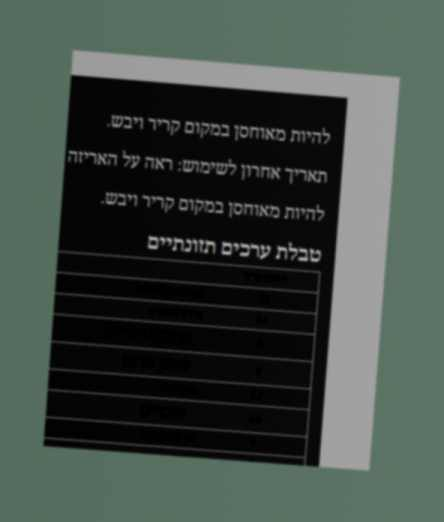carbs: (248, 387, 265, 404)
energy: (257, 291, 271, 307)
fat: (254, 312, 271, 328)
protein: (248, 435, 257, 451)
